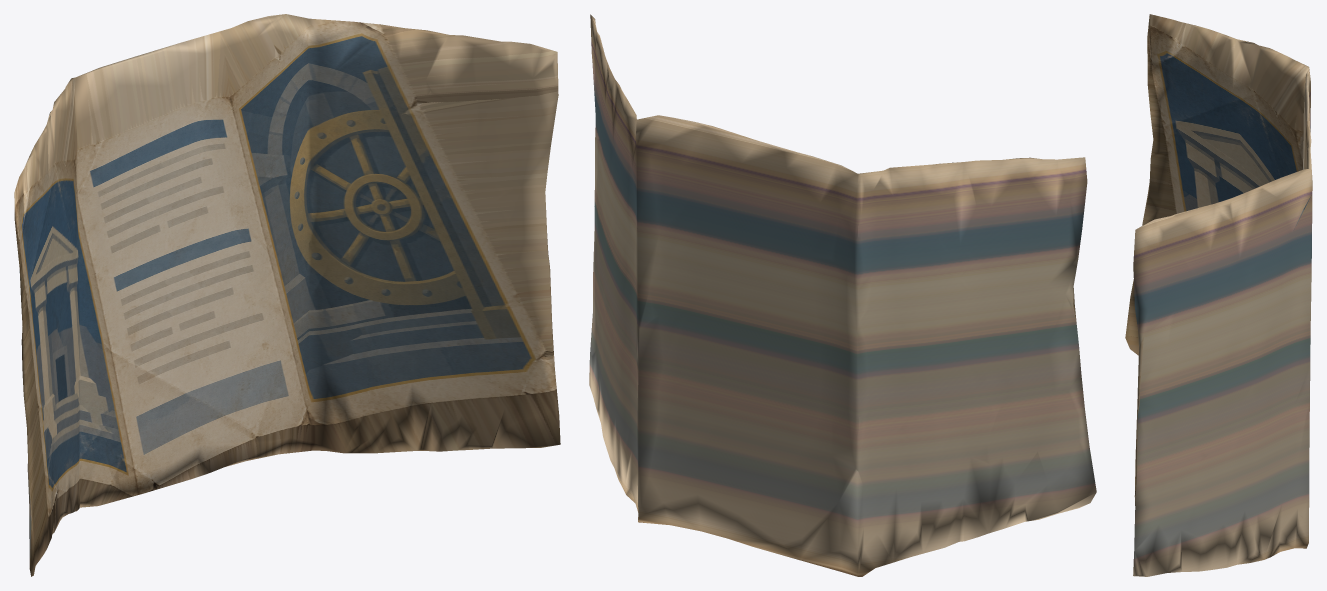
File: asset_bank-brochure.glb
3 views of the same model, side by side, from view 1: azimuth 30°, elevation 25°; view 2: azimuth 150°, elevation 25°; view 3: azimuth 270°, elevation 25° (orthographic). The views are drawn at different scales.
Parts seen in each view (by area): view 1: geometry_0; view 2: geometry_0; view 3: geometry_0.
Boxes of the visible parts, bbox=[...] form: geometry_0: bbox=[14, 14, 560, 576]; geometry_0: bbox=[589, 14, 1096, 576]; geometry_0: bbox=[1125, 14, 1312, 576].
Size of the model in its own units: 0.3163 by 0.25 by 0.1083.
Materials: 1 (1 with a texture image).
